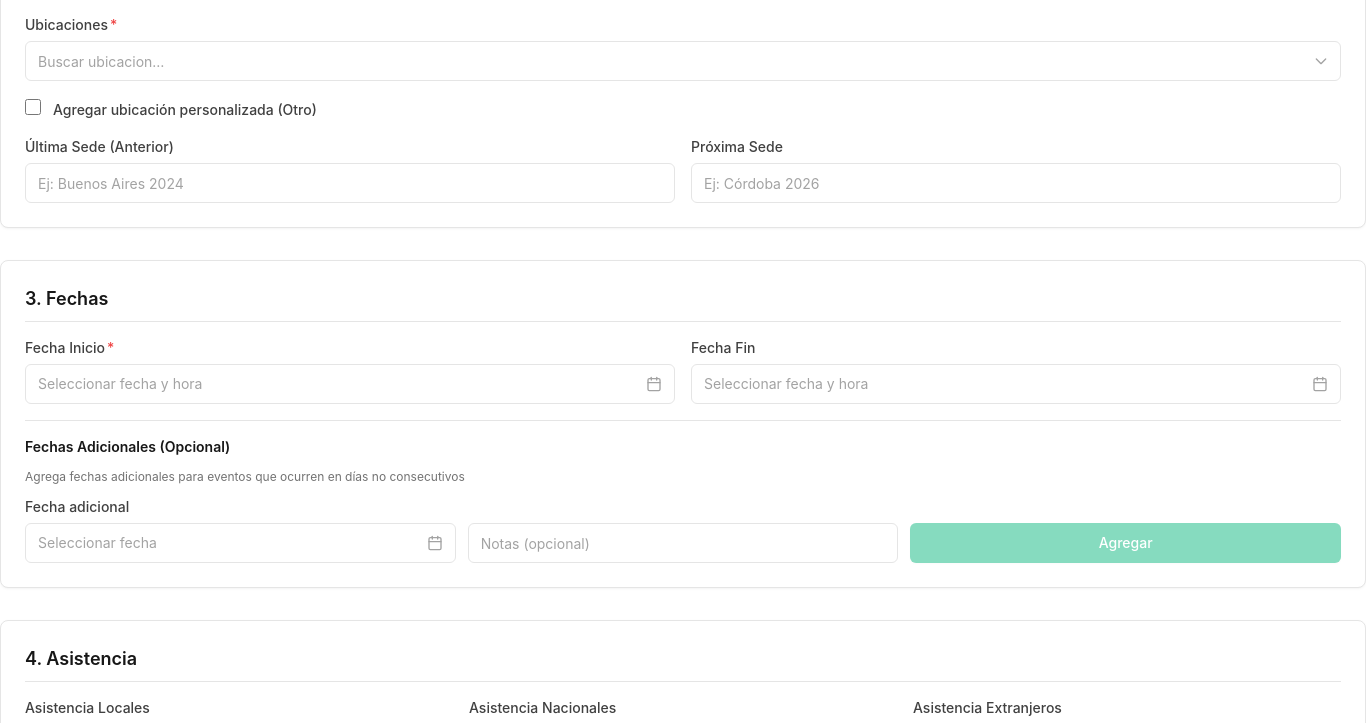
Test: OrganizerEventForm › section 3: dates › should open calendar when end_date picker is clicked
(page scrolled)
Click the button named "fecha fin" at (786, 384), box [691,364,1341,404]
(page scrolled)
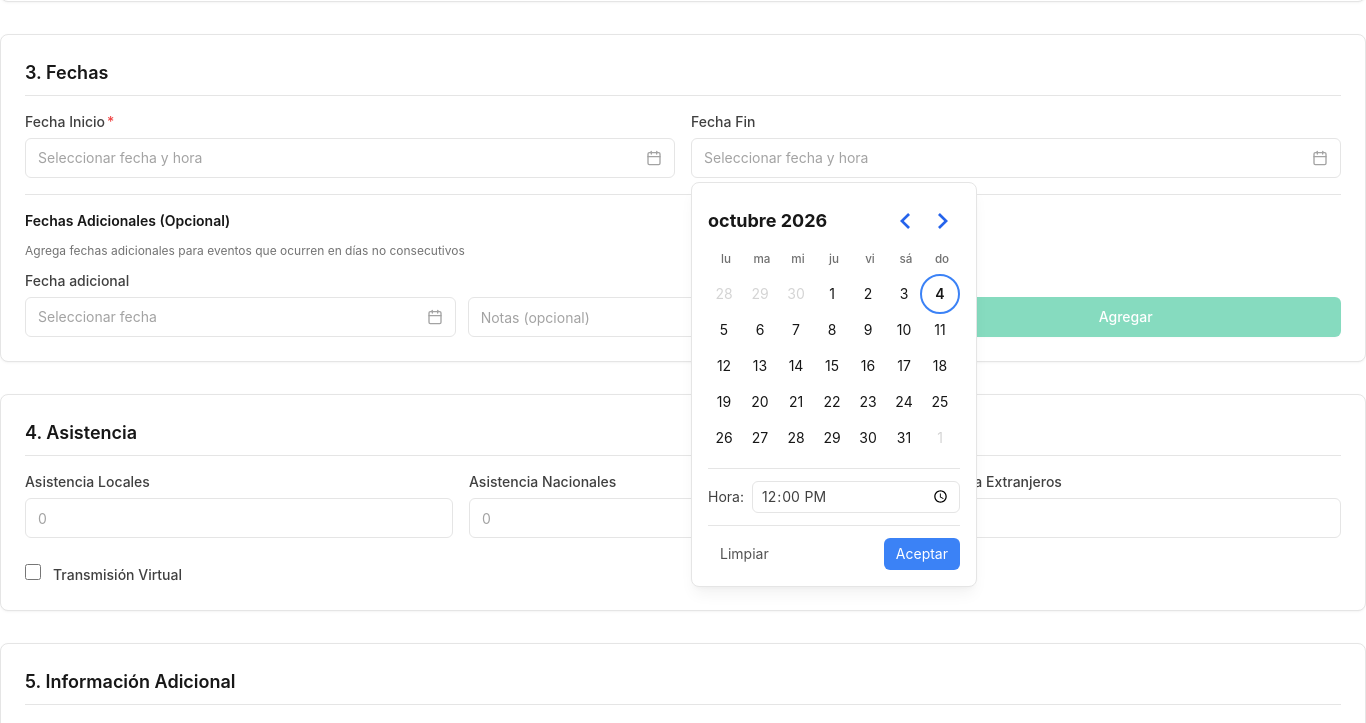
Now the dialog named "seleccionar fecha" is shown, box [691,182,977,587]
